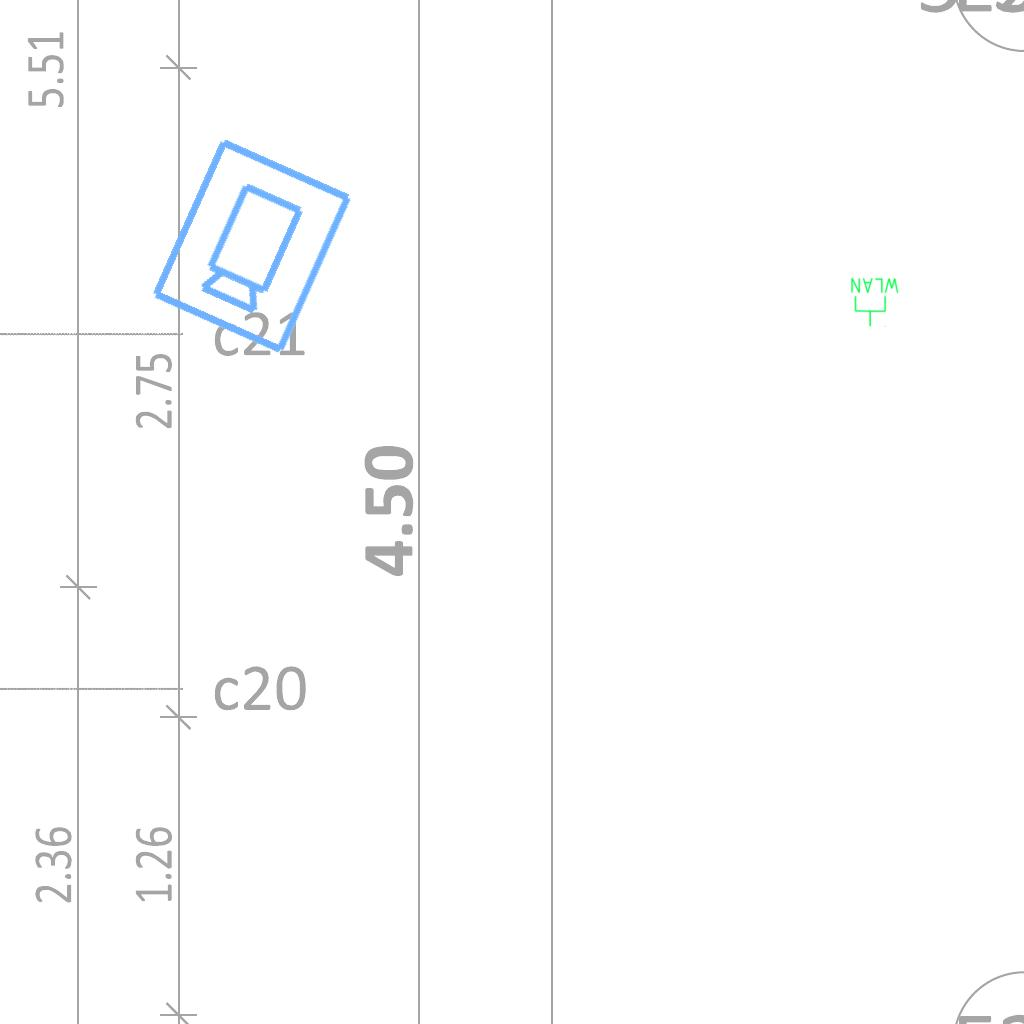KFO_Kamera_mit_Festobjektiv: (143, 130, 359, 360)
WLAN: (849, 276, 901, 328)
